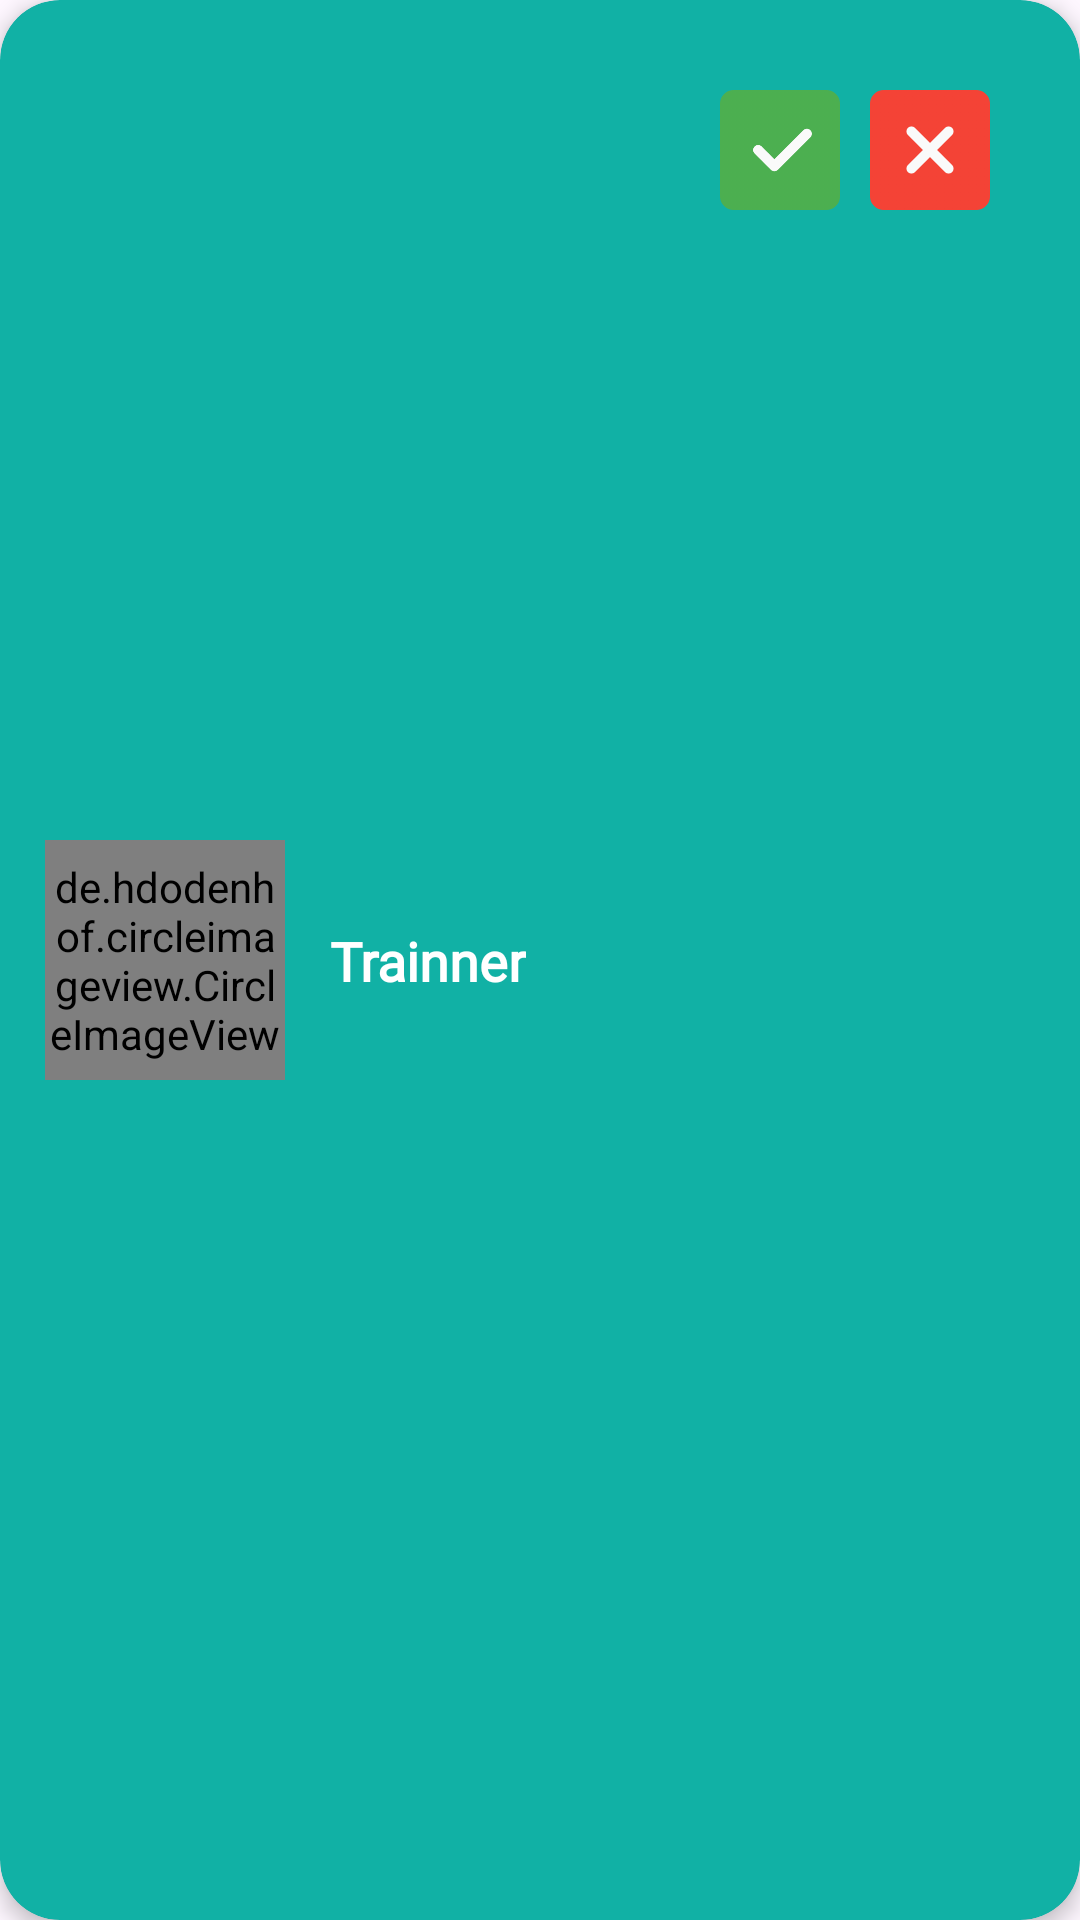

Locate icon controls on the screen. Image size 1080w x 1920h, boxes as {"x1": x1, "y1": y1, "x2": x2, "y2": y2}.
check: {"x1": 720, "y1": 90, "x2": 840, "y2": 210}
remove: {"x1": 870, "y1": 90, "x2": 990, "y2": 210}
